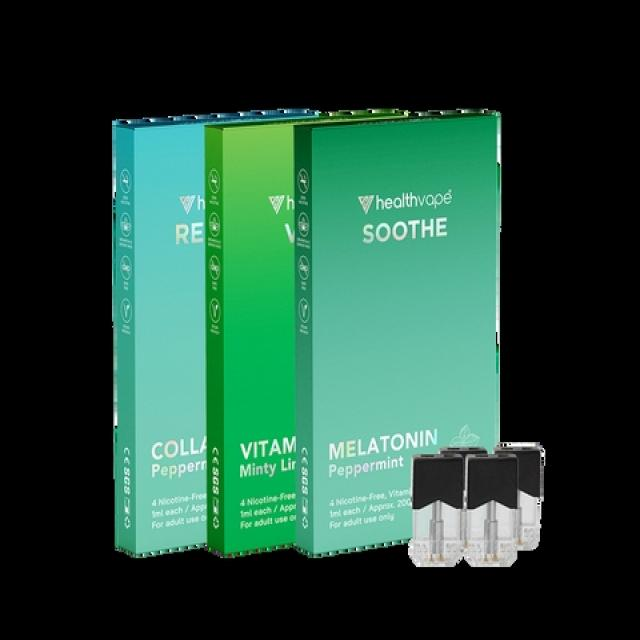Vape-images: (110, 107, 506, 561)
